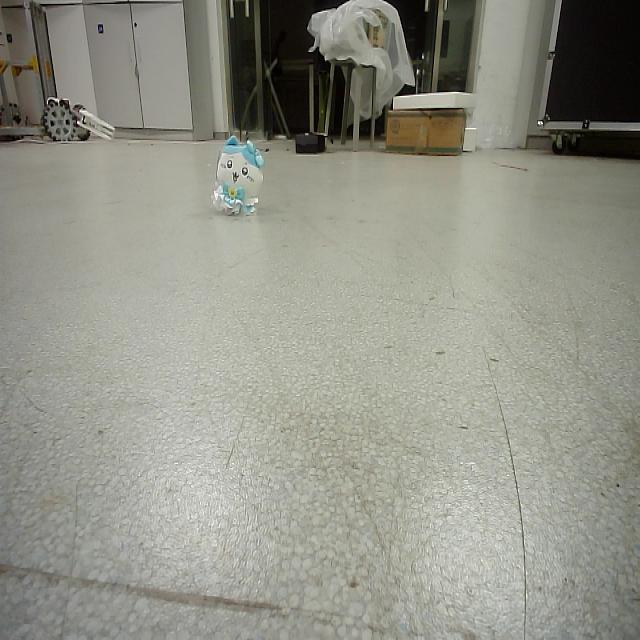xiaoba: (214, 136, 266, 218)
